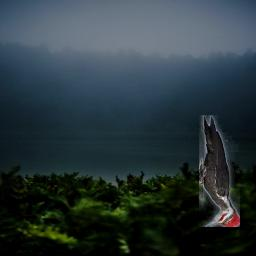Woodpecker: (199, 115, 240, 227)
